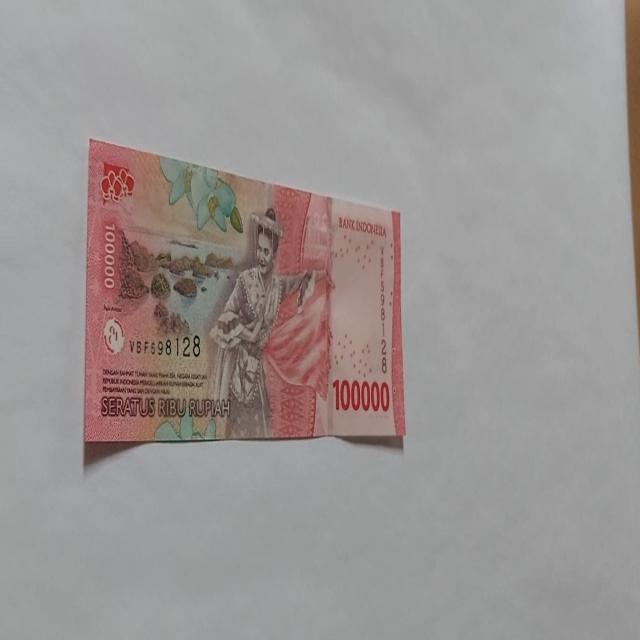seratus ribu rupiah: (83, 138, 406, 448), (205, 206, 317, 438)
